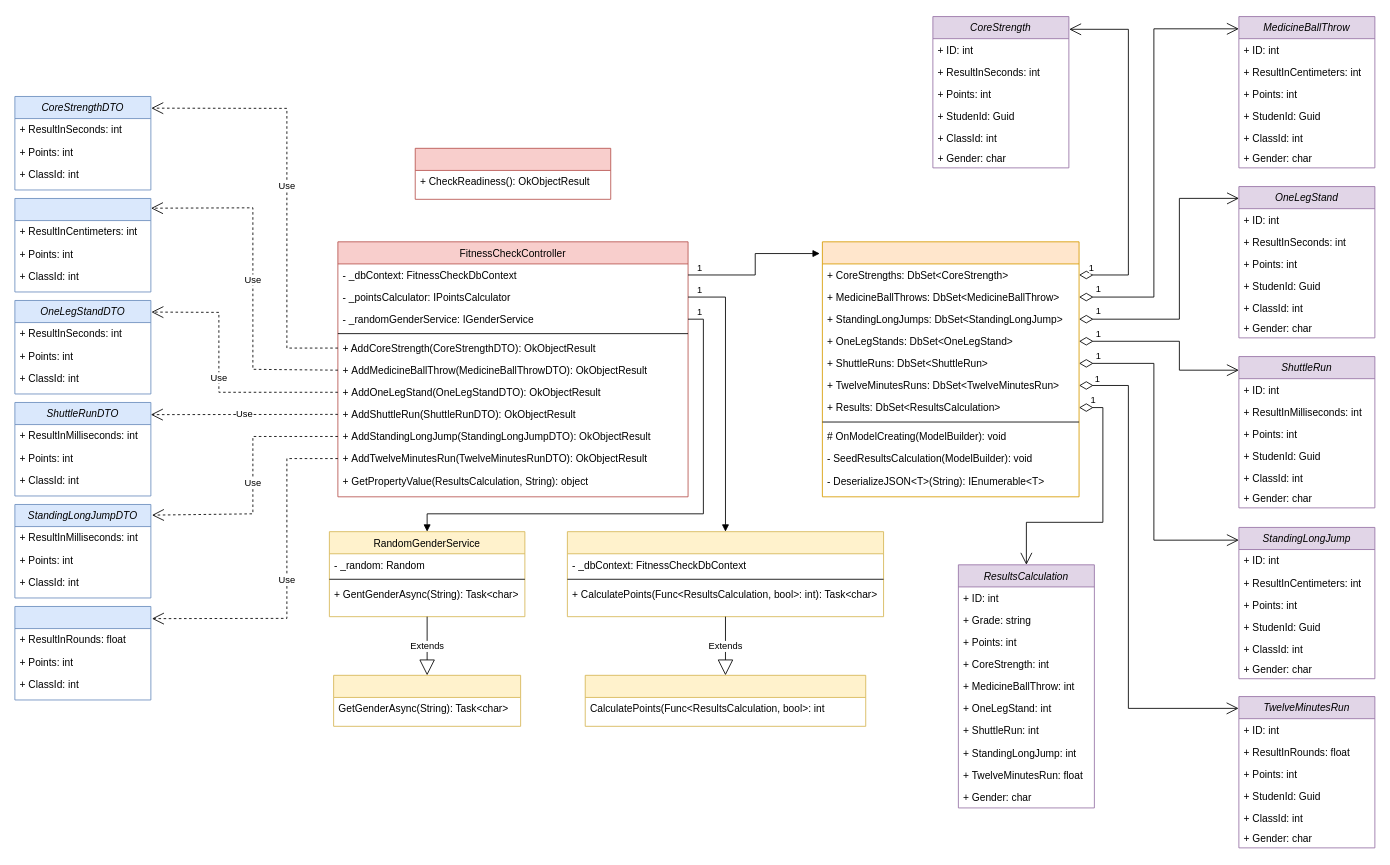
The diagram is 1390 pixels wide and 865 high, and some of its shapes have lost their labels. Here are the shapes that lost their labels. From the top down, the box of each, then its label:
(414, 147, 611, 199): HealthController
(14, 198, 151, 292): MedicineBallThrowDTO
(822, 241, 1079, 497): FitnessCheckDbContext
(567, 531, 884, 617): PointsCalculator
(14, 606, 151, 700): TwelveMinutesRunDTO
(333, 674, 521, 726): IGenderService
(584, 674, 866, 726): IPointsCalculator
